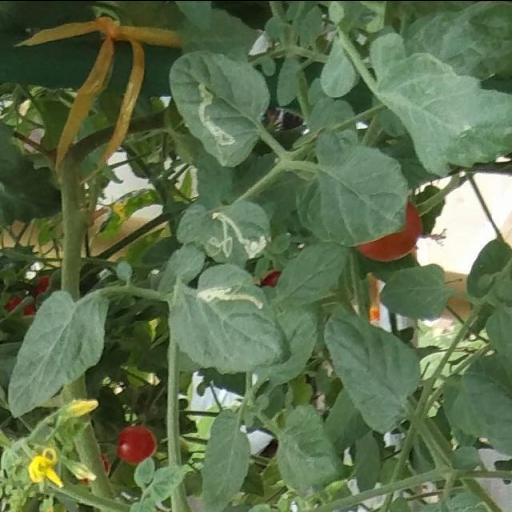Healthy: (292, 126, 412, 246), (7, 288, 111, 416), (322, 314, 422, 434), (276, 403, 348, 491), (200, 406, 250, 512), (377, 261, 449, 322)
Leaf Miner: (164, 260, 292, 368), (168, 51, 272, 169), (196, 198, 272, 266)
